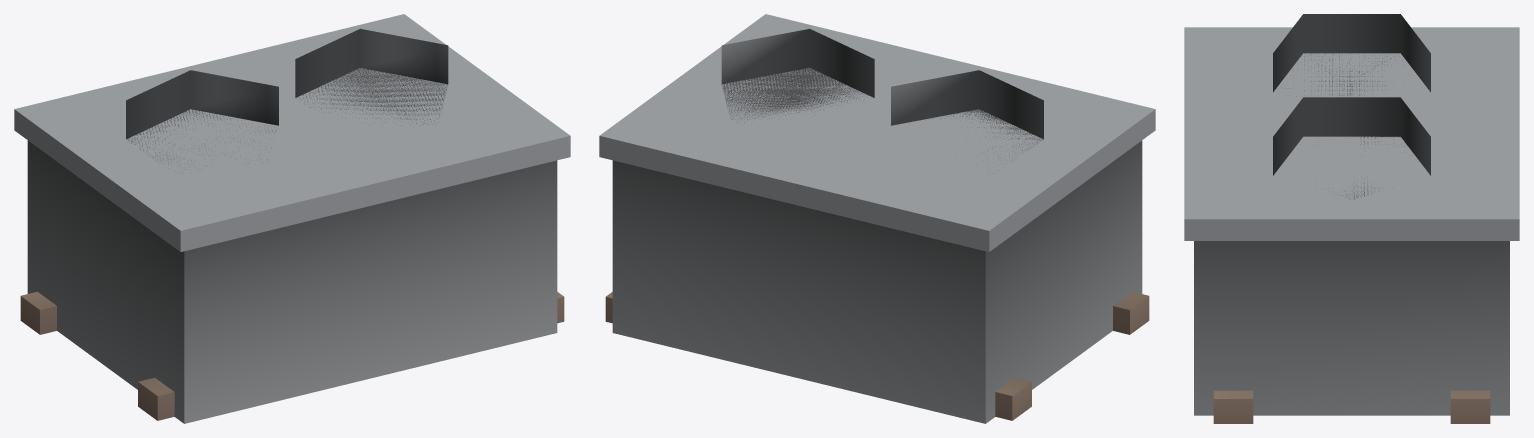
The model's file is hvac_unit.lod2.glb.
The picture shows the model from 3 angles, left to right: view 1: azimuth 30°, elevation 25°; view 2: azimuth 150°, elevation 25°; view 3: azimuth 270°, elevation 25°; orthographic projection.
Parts seen in each view (by area): view 1: props_hvac_unit.lod2; view 2: props_hvac_unit.lod2; view 3: props_hvac_unit.lod2.
Part boxes in pixels (box(x1,y1,x2,y2)): props_hvac_unit.lod2: box(14, 14, 570, 423); props_hvac_unit.lod2: box(599, 14, 1155, 423); props_hvac_unit.lod2: box(1184, 14, 1519, 423).
Bounding box in the file's own units: 2.4 × 1.34 × 1.7.
